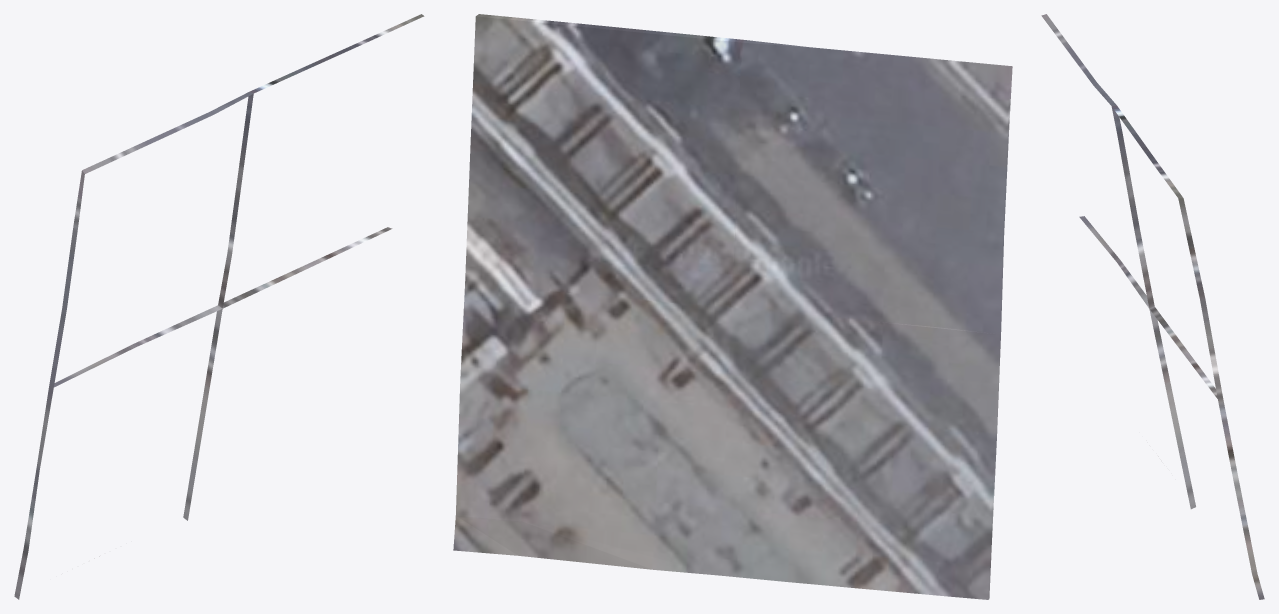
3 views of the same model, side by side, from view 1: azimuth 30°, elevation 25°; view 2: azimuth 150°, elevation 25°; view 3: azimuth 270°, elevation 25° (orthographic). The views are drawn at different scales.
Size of the model in its own units: 37.93 by 37.49 by 18.37.
Materials: 1 (1 with a texture image).
